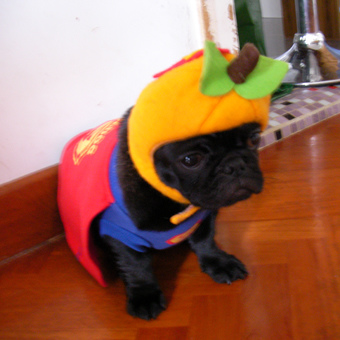dog: (59, 43, 290, 320)
